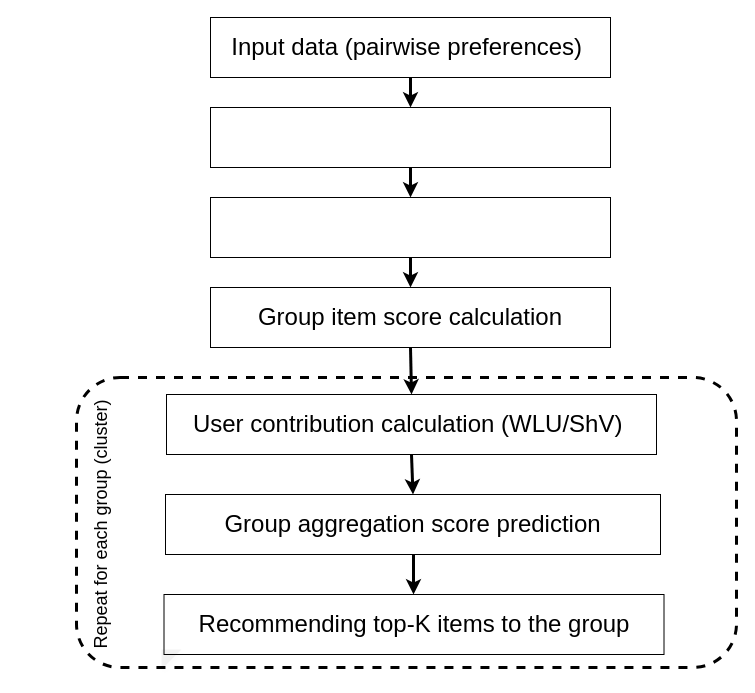
The diagram is 755 pixels wide and 693 high, and some of its shapes have lost their labels. Each missing label, with the centre of its shape:
Personalized item score calculation: the point at 410,137
User clustering (GcPp): the point at 410,227
